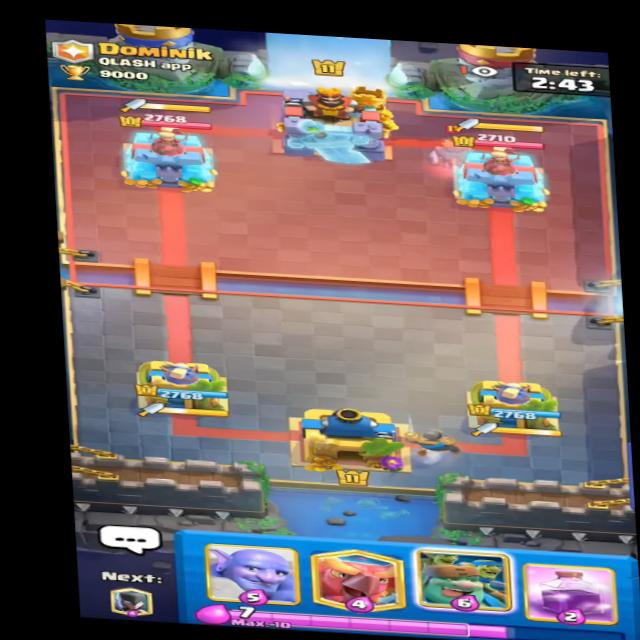royal-ghost: (424, 121, 480, 171)
